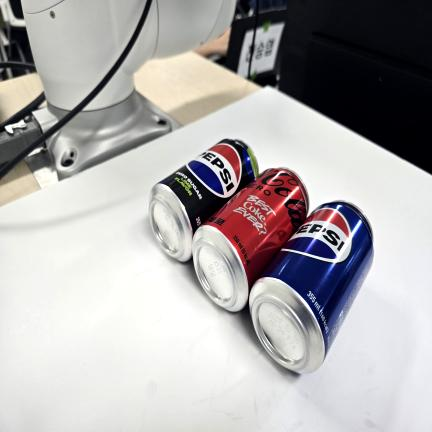can_coke_zero: (190, 167, 309, 313)
can_pepsi: (249, 200, 375, 376)
can_pepsi_zero: (147, 138, 260, 262)
